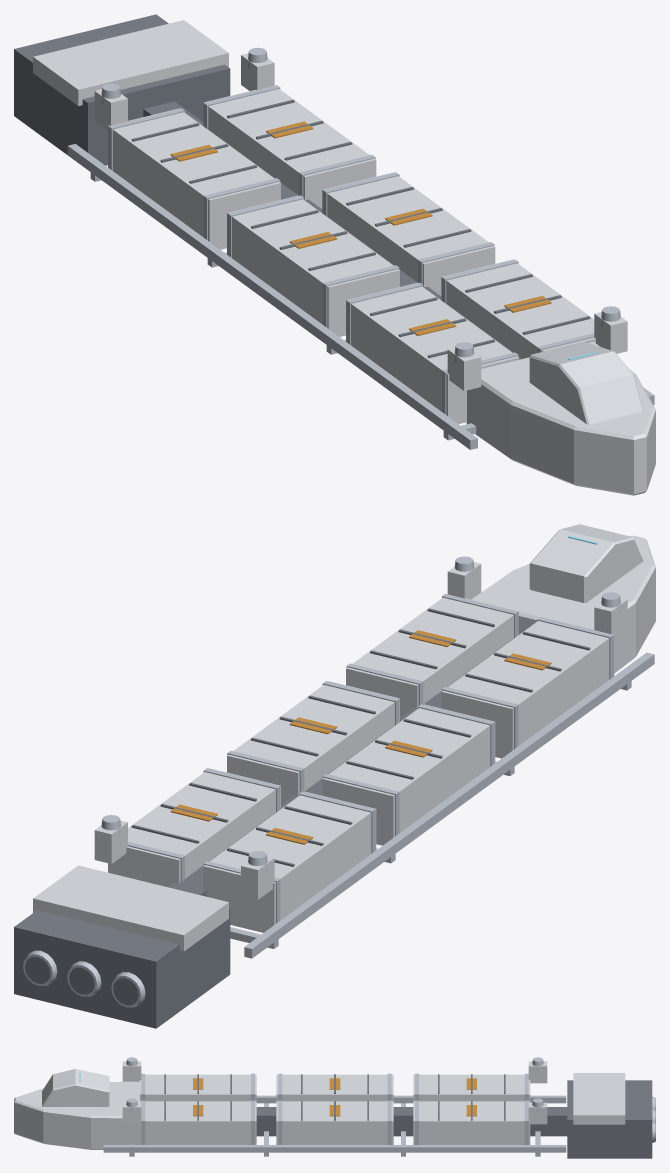
File: hauler_meridian.glb
The picture shows the model from 3 angles, top to bottom: view 1: azimuth 30°, elevation 25°; view 2: azimuth 150°, elevation 25°; view 3: azimuth 270°, elevation 25°; orthographic projection. The views are drawn at different scales.
Visible parts, largest first — view 1: hauler_meridian_mesh; view 2: hauler_meridian_mesh; view 3: hauler_meridian_mesh.
Part boxes in pixels (x1,y1,x2,y2): hauler_meridian_mesh: (14,14,655,495); hauler_meridian_mesh: (14,524,655,1028); hauler_meridian_mesh: (14,1057,655,1158).
Size of the model in its own units: 12.95 by 7.27 by 68.
